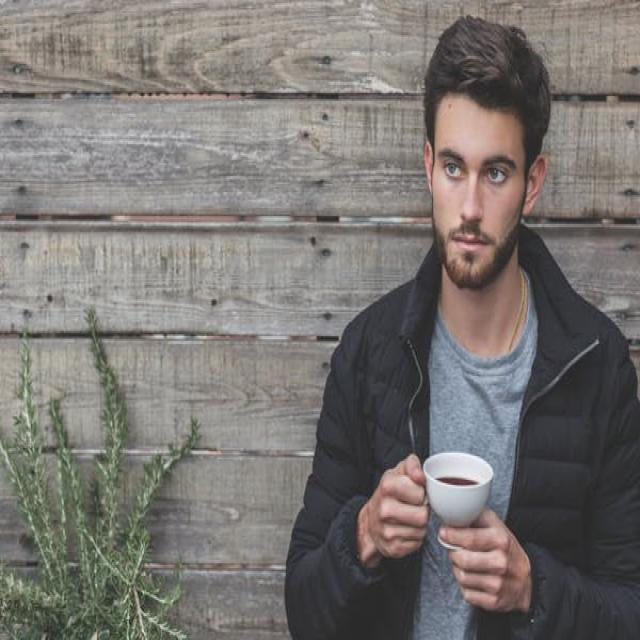Real human 2: (263, 6, 640, 638)
